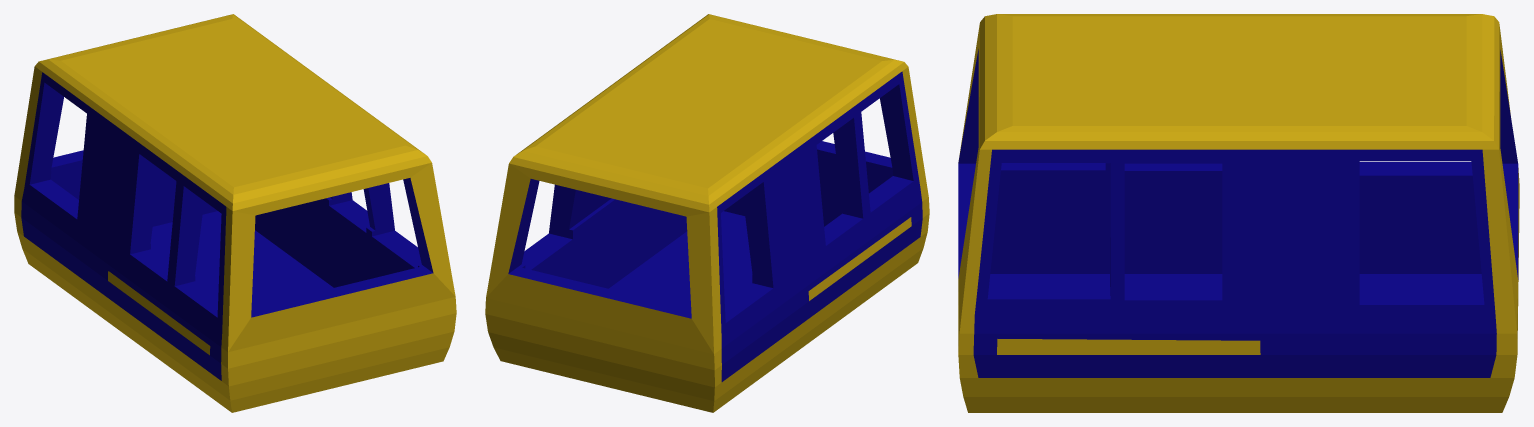
File: PRT_Base_Design.fbx
3 renders of one model, left to right at view 1: azimuth 30°, elevation 25°; view 2: azimuth 150°, elevation 25°; view 3: azimuth 270°, elevation 25°, orthographic. The views are drawn at different scales.
Visible parts, largest first — view 1: Cube; view 2: Cube; view 3: Cube.
Part boxes in pixels (bbox=[...]): Cube: bbox=[14, 14, 456, 412]; Cube: bbox=[485, 14, 929, 412]; Cube: bbox=[958, 14, 1519, 412].
Bounding box in the file's own units: 305 × 266 × 494.
